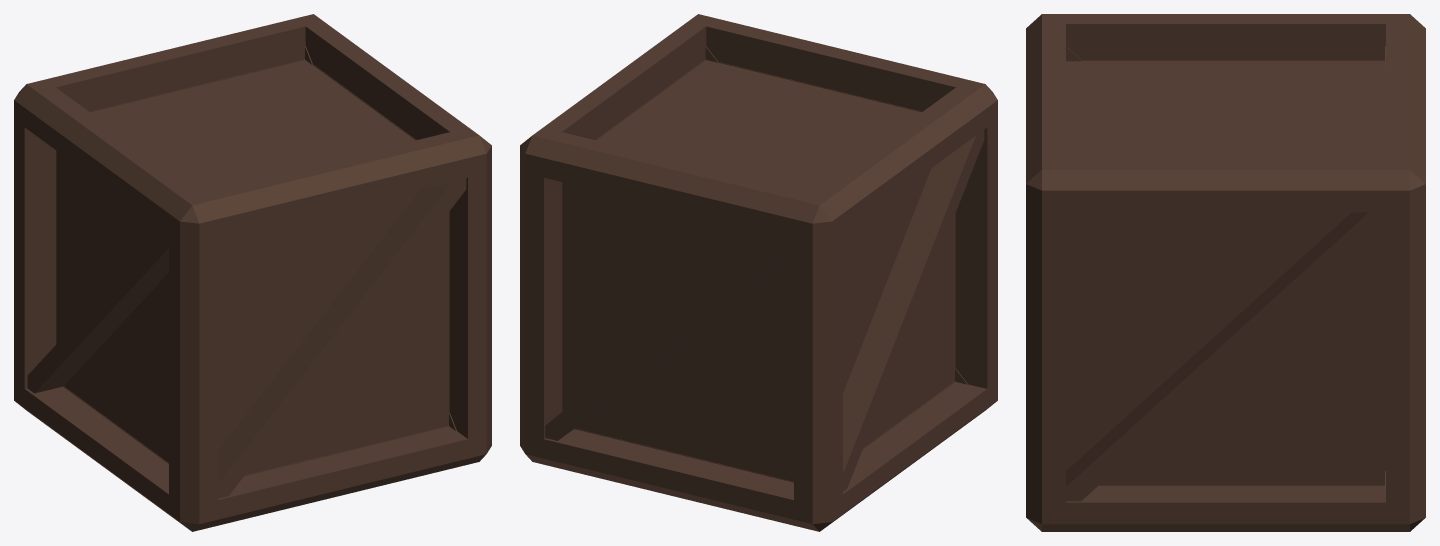
Rendered from Crate 3.fbx.
3 renders of one model, left to right at view 1: azimuth 30°, elevation 25°; view 2: azimuth 150°, elevation 25°; view 3: azimuth 270°, elevation 25°, orthographic. The views are drawn at different scales.
Parts seen in each view (by area): view 1: Cube; view 2: Cube; view 3: Cube.
Boxes of the visible parts, box(x1,y1,x2,y2) form: Cube: box(14, 14, 491, 531); Cube: box(520, 14, 997, 531); Cube: box(1026, 14, 1425, 531).
Size of the model in its own units: 565 by 565 by 565.
